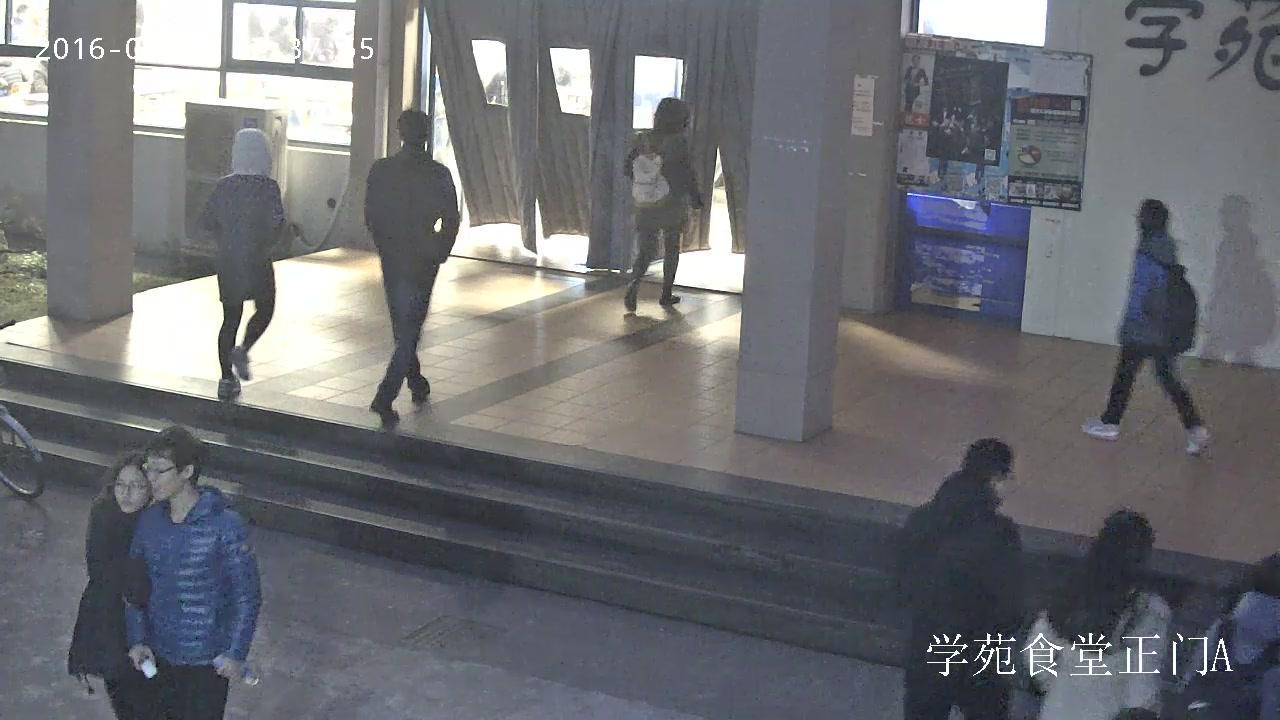person: (120, 424, 262, 720), (891, 435, 1031, 720), (1078, 196, 1214, 455), (1019, 505, 1174, 720), (363, 108, 460, 423), (67, 451, 154, 720), (201, 125, 286, 400), (1174, 546, 1280, 720), (622, 97, 704, 312), (902, 52, 929, 113)
